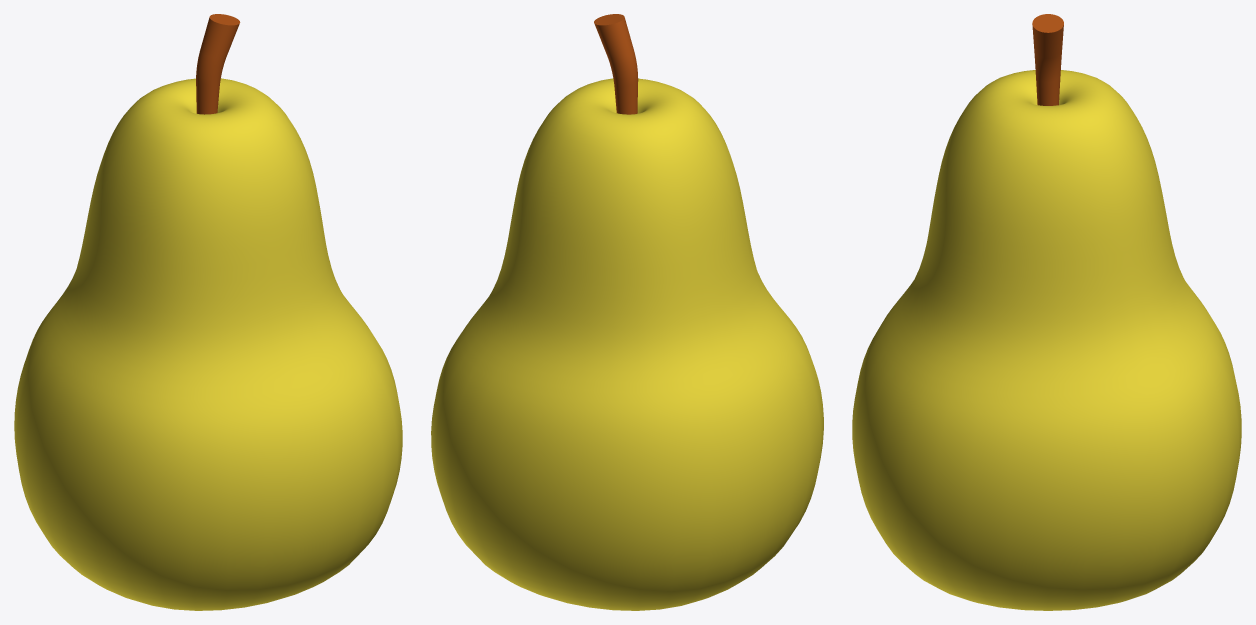
The model's file is armut.fbx.
3 renders of one model, left to right at view 1: azimuth 30°, elevation 25°; view 2: azimuth 150°, elevation 25°; view 3: azimuth 270°, elevation 25°, orthographic.
Parts seen in each view (by area): view 1: armut; view 2: armut; view 3: armut.
Part boxes in pixels (left/top/right/bottom): armut: left=14, top=14, right=402, bottom=610; armut: left=431, top=14, right=823, bottom=610; armut: left=852, top=14, right=1241, bottom=610.
Bounding box in the file's own units: 66.34 × 66.34 × 107.
